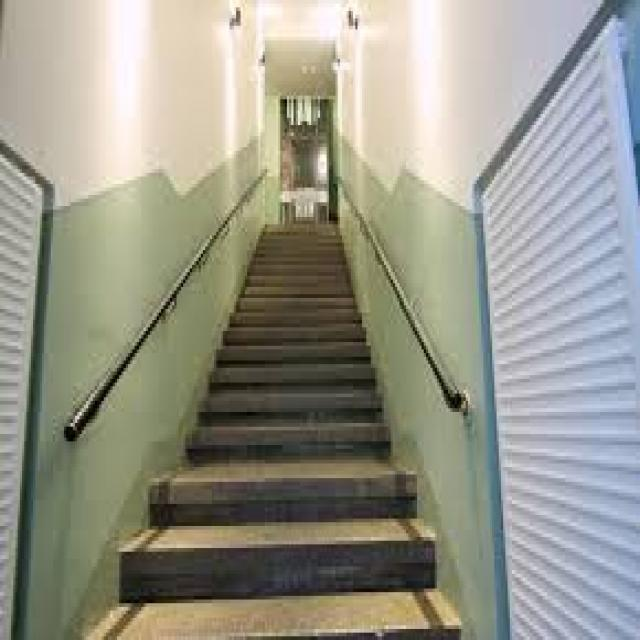stairs: (81, 216, 462, 636)
